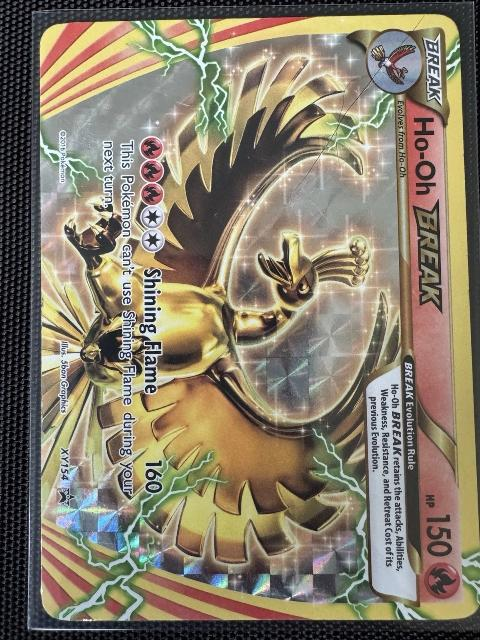Card: (36, 10, 480, 625)
Name: (407, 108, 447, 320)
